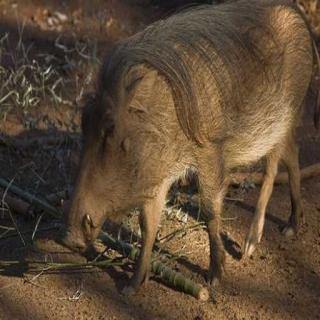Pig: (53, 0, 320, 298)
